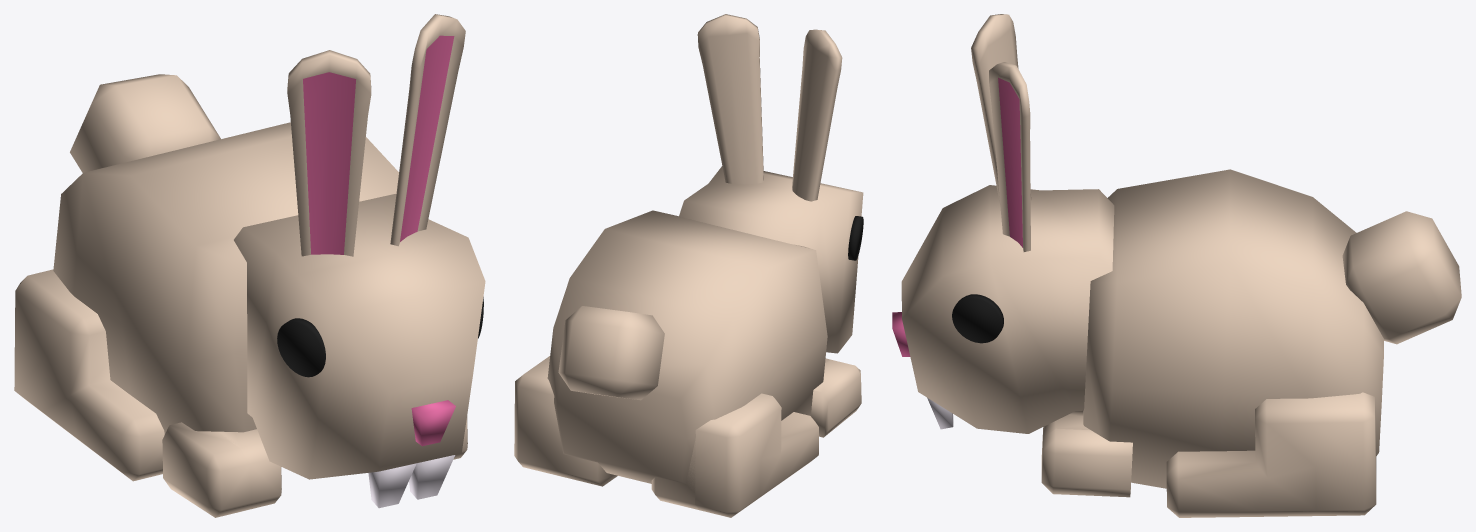
Rendered from Bunny.fbx.
3 views of the same model, side by side, from view 1: azimuth 30°, elevation 25°; view 2: azimuth 150°, elevation 25°; view 3: azimuth 270°, elevation 25° (orthographic). The views are drawn at different scales.
Visible parts, largest first — view 1: Head, Torso, BackLeg_R, Ear_R, Tail, Ear_L, FrontLef_R, Teeth, Eye_R, Nose; view 2: Torso, Head, BackLeg_R, Ear_L, Tail, Ear_R, BackLeg_L, FrontLef_R, Eye_R; view 3: Torso, Head, BackLeg_L, Tail, Ear_L, FrontLeg_L, Ear_R, Eye_L.
Boxes of the visible parts, x1,y1,x2,y2 form: Head: (234,194,485,479); Torso: (53,122,398,434); BackLeg_R: (14,269,164,481); Ear_R: (287,50,371,256); Tail: (70,74,220,172); Ear_L: (390,14,465,246); FrontLef_R: (162,422,281,517); Teeth: (368,455,455,508); Eye_R: (277,318,325,377); Nose: (411,400,455,446); Torso: (547,210,827,483); Head: (679,166,863,353); BackLeg_R: (651,393,818,517); Ear_L: (697,14,763,184); Tail: (558,306,664,400); Ear_R: (792,29,842,201); BackLeg_L: (514,356,617,486); FrontLef_R: (811,358,861,437); Eye_R: (848,216,863,260); Torso: (1083,169,1383,488); Head: (901,185,1114,433); BackLeg_L: (1166,392,1376,517); Tail: (1342,211,1461,344); Ear_L: (989,62,1030,251); FrontLeg_L: (1041,415,1132,497); Ear_R: (971,14,1031,204); Eye_L: (952,294,1003,343).
Bounding box in the file's own units: 0.289 × 0.4387 × 0.5373.
